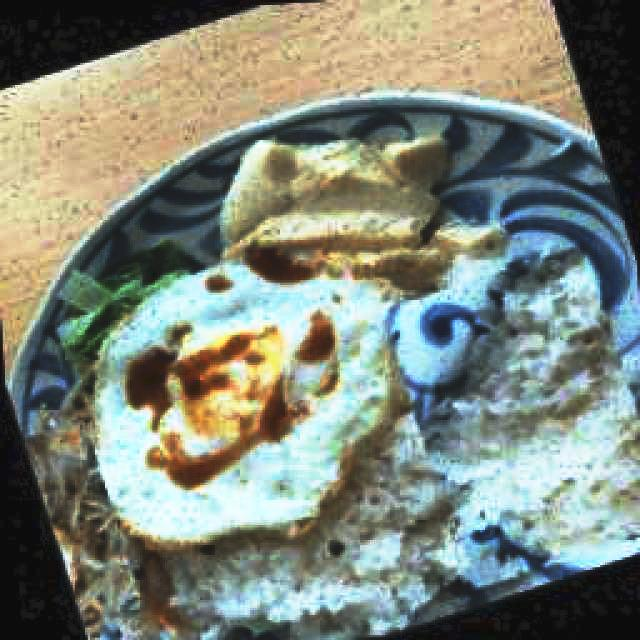fried_eggs: (91, 260, 406, 549)
rice: (469, 275, 610, 555), (106, 554, 398, 634)
